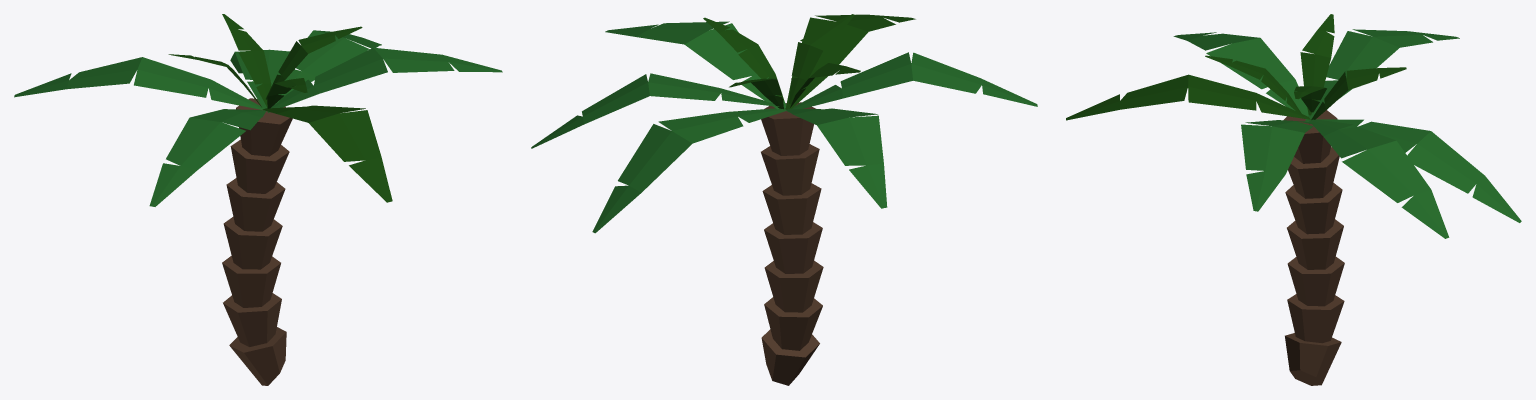
Rendered from Palme.fbx.
3 renders of one model, left to right at view 1: azimuth 30°, elevation 25°; view 2: azimuth 150°, elevation 25°; view 3: azimuth 270°, elevation 25°, orthographic. The views are drawn at different scales.
Parts seen in each view (by area): view 1: Plane, Cylinder; view 2: Plane, Cylinder; view 3: Plane, Cylinder.
Boxes of the visible parts, bbox=[...] form: Plane: bbox=[14, 14, 502, 206]; Cylinder: bbox=[222, 98, 292, 385]; Plane: bbox=[531, 14, 1037, 233]; Cylinder: bbox=[761, 102, 823, 385]; Plane: bbox=[1066, 14, 1521, 238]; Cylinder: bbox=[1283, 110, 1344, 385].
Bounding box in the file's own units: 1105 × 923 × 1145.
